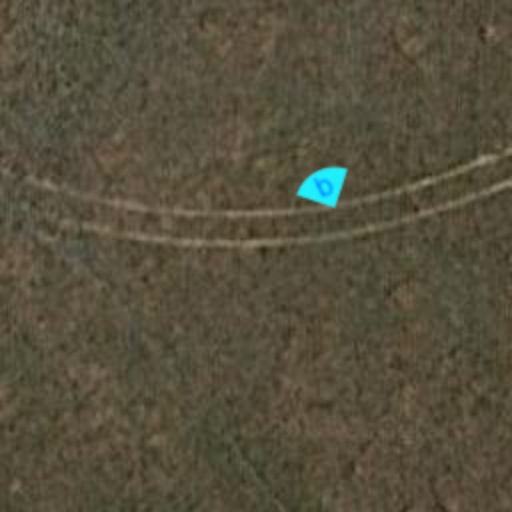quarter_circle: (286, 148, 362, 224)
